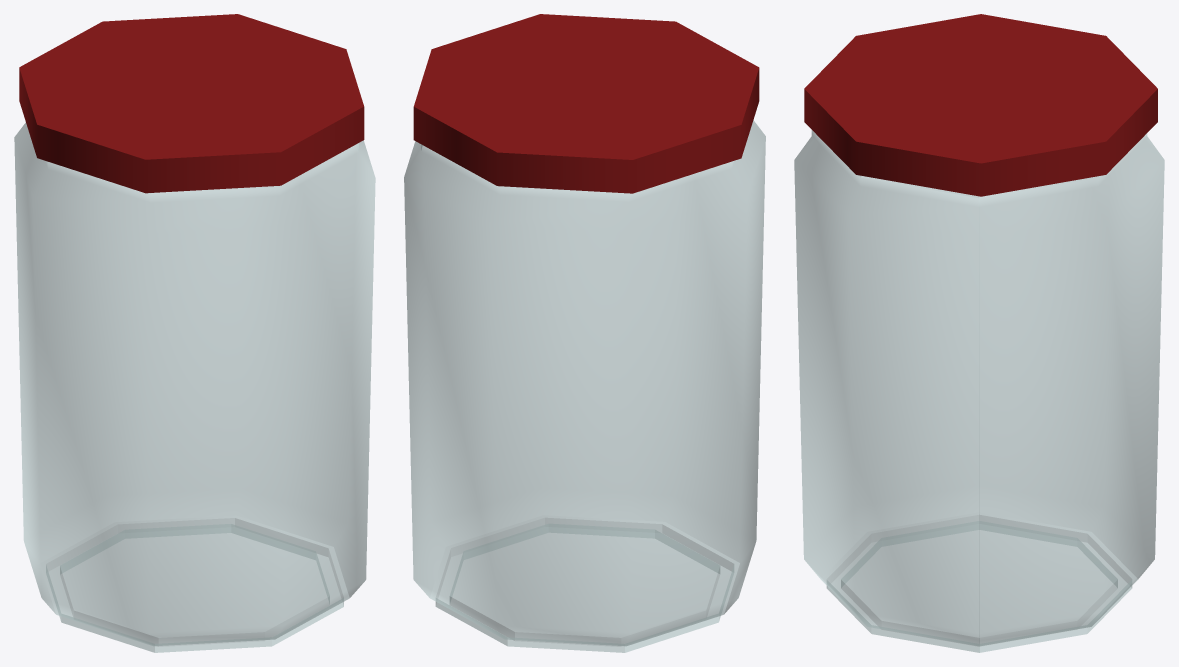
File: tarro.FBX
3 renders of one model, left to right at view 1: azimuth 30°, elevation 25°; view 2: azimuth 150°, elevation 25°; view 3: azimuth 270°, elevation 25°, orthographic.
Parts seen in each view (by area): view 1: Cylinder001, Cylinder002; view 2: Cylinder001, Cylinder002; view 3: Cylinder001, Cylinder002.
Boxes of the visible parts, x1,y1,x2,y2 form: Cylinder001: (14, 122, 375, 652); Cylinder002: (19, 14, 364, 193); Cylinder001: (404, 120, 765, 652); Cylinder002: (413, 14, 759, 193); Cylinder001: (794, 130, 1164, 652); Cylinder002: (804, 14, 1157, 196).
Size of the model in its own units: 15.05 by 22.34 by 15.05.
